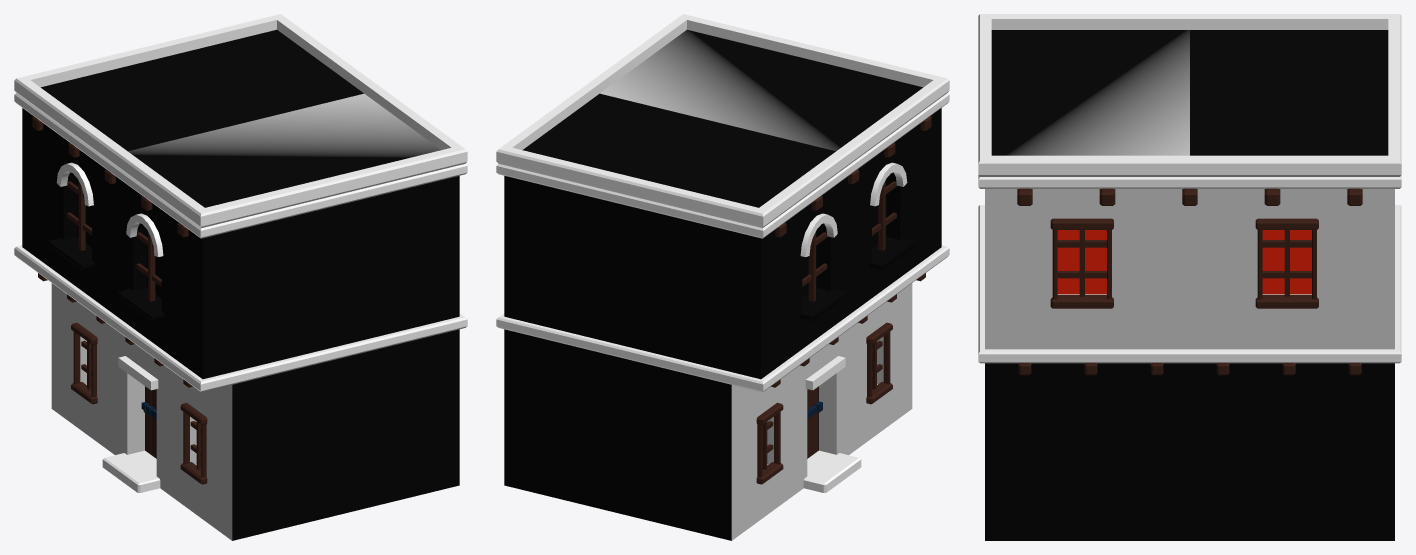
Rendered from civilian_house_37_a.FBX.
The picture shows the model from 3 angles, left to right: view 1: azimuth 30°, elevation 25°; view 2: azimuth 150°, elevation 25°; view 3: azimuth 270°, elevation 25°; orthographic projection. The views are drawn at different scales.
Parts seen in each view (by area): view 1: civilian_house_37_a; view 2: civilian_house_37_a; view 3: civilian_house_37_a.
Part boxes in pixels (x1,y1,x2,y2): civilian_house_37_a: (14,14,467,540); civilian_house_37_a: (496,14,949,540); civilian_house_37_a: (978,14,1401,540).
Bounding box in the file's own units: 632 × 721 × 723.
